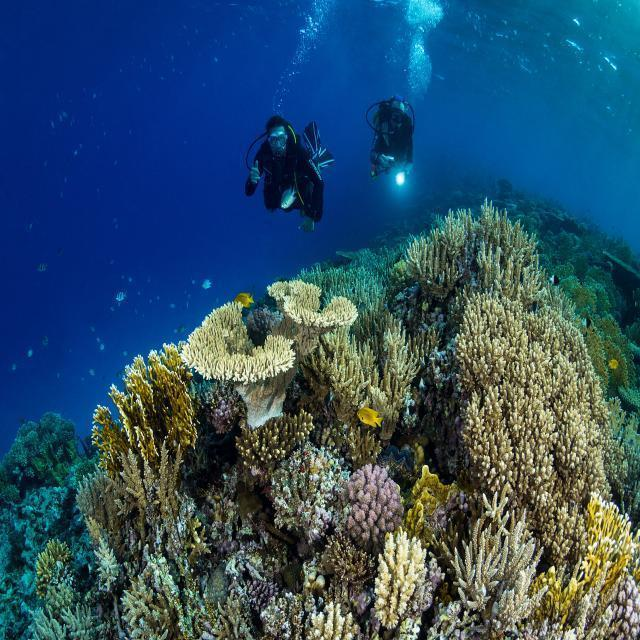Bleached Coral: (377, 535, 420, 625)
Healthy Coral: (467, 289, 601, 491), (404, 200, 558, 292), (93, 340, 203, 462), (448, 516, 546, 618), (190, 305, 299, 358), (385, 312, 423, 441), (344, 456, 411, 527), (236, 415, 325, 467), (311, 342, 383, 404), (410, 467, 456, 534), (124, 586, 180, 639), (30, 538, 72, 597), (216, 599, 262, 640), (204, 570, 233, 600)
